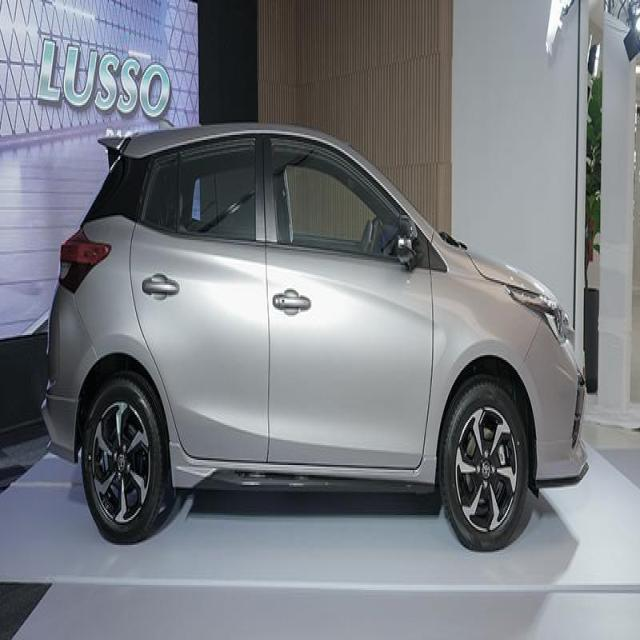Hatchback: (42, 123, 587, 550)
